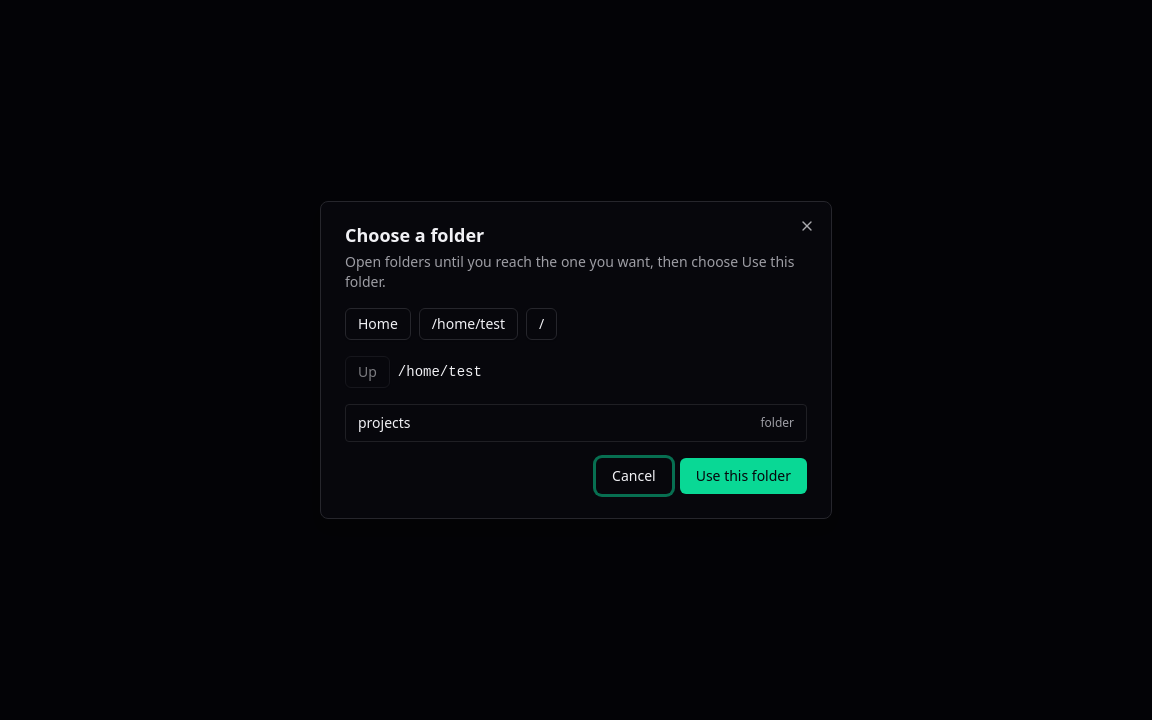
FsBrowser (FP12 § G) › navigates into a directory when clicked
This screenshot has width=1152, height=720.
Click the text "projects" at (384, 423), box top-left (358, 413), bottom-right (411, 433)
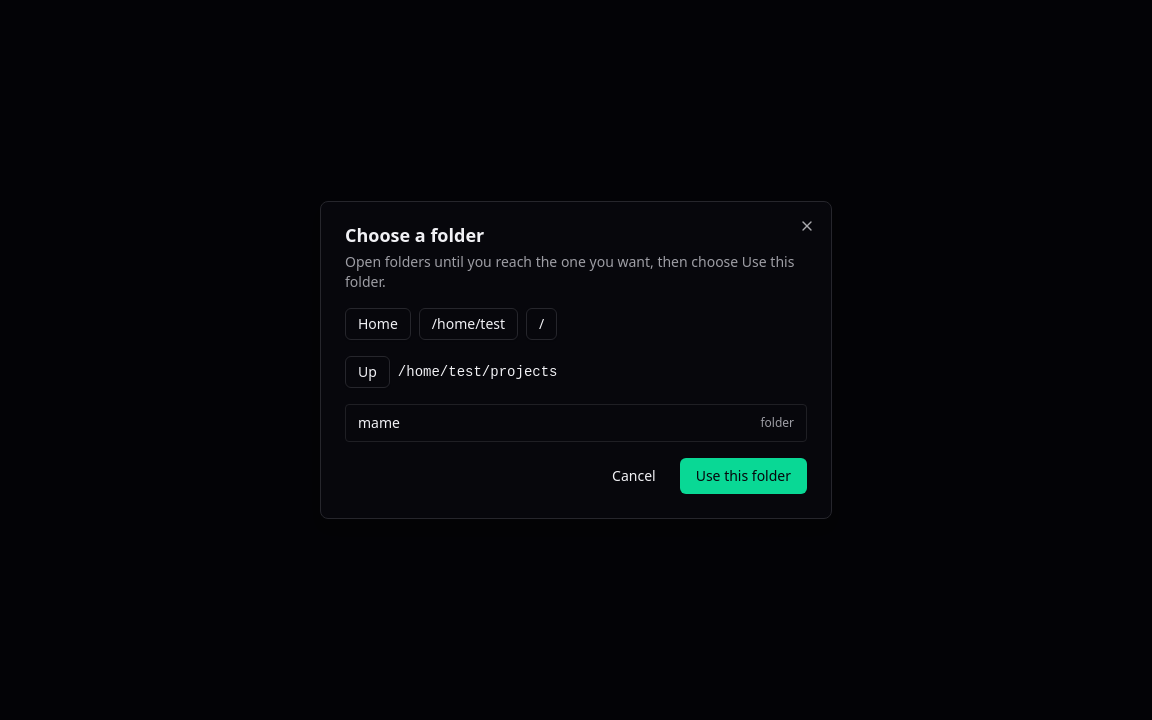
Now the text "mame" is shown, box top-left (358, 413), bottom-right (400, 433)
